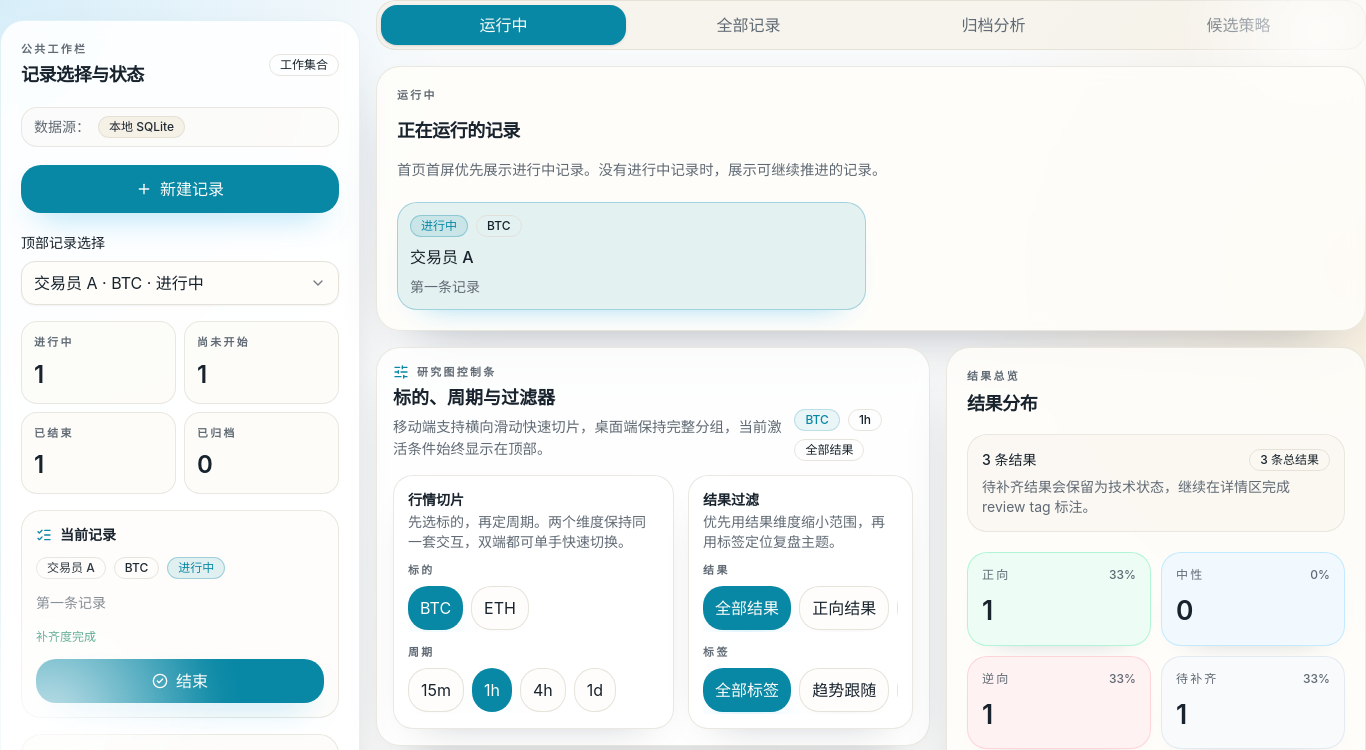
Test: archives a record and removes it from the visible list
Click the tab "全部记录".
click(748, 25)  # box x1=626 y1=5 x2=871 y2=45
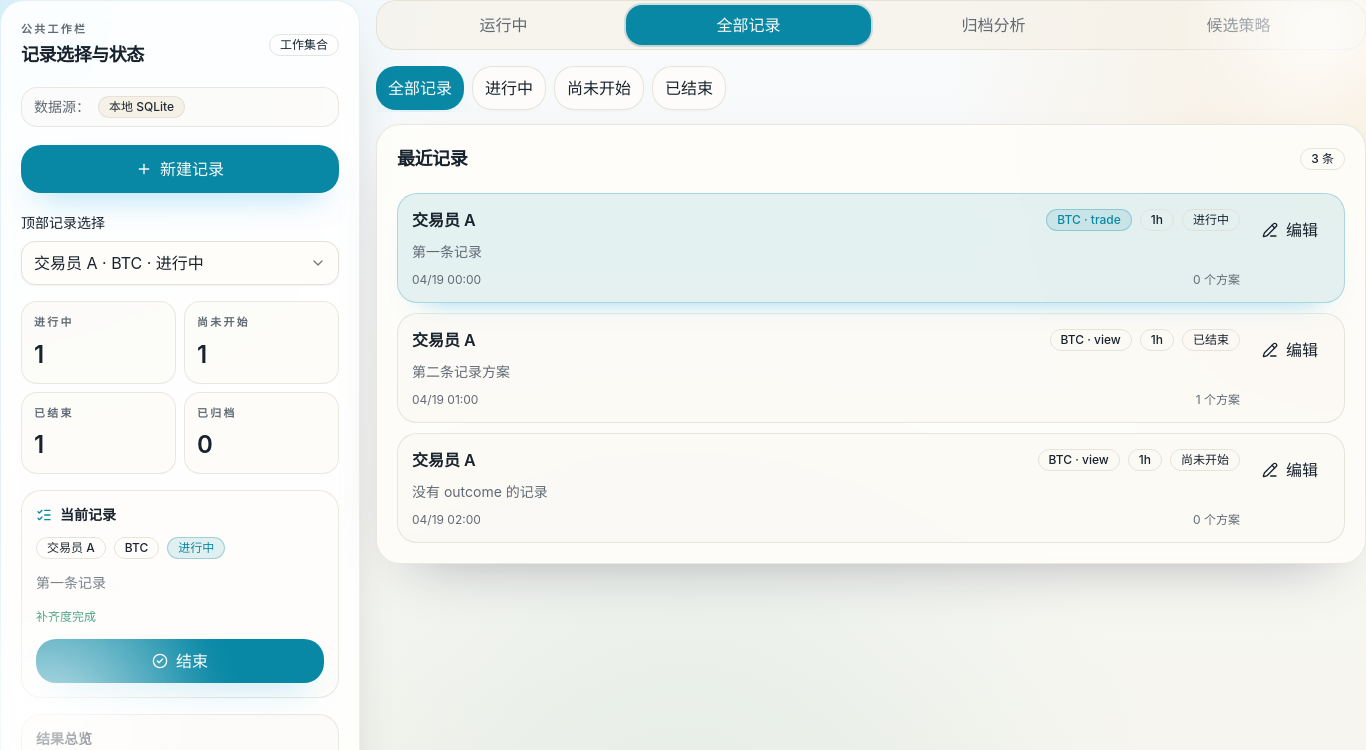
Click the button "交易员 A BTC · view 1h 已结束 第二条记录方案 04/19 01:00 1 个方案".
click(444, 340)  # box x1=412 y1=328 x2=1240 y2=408
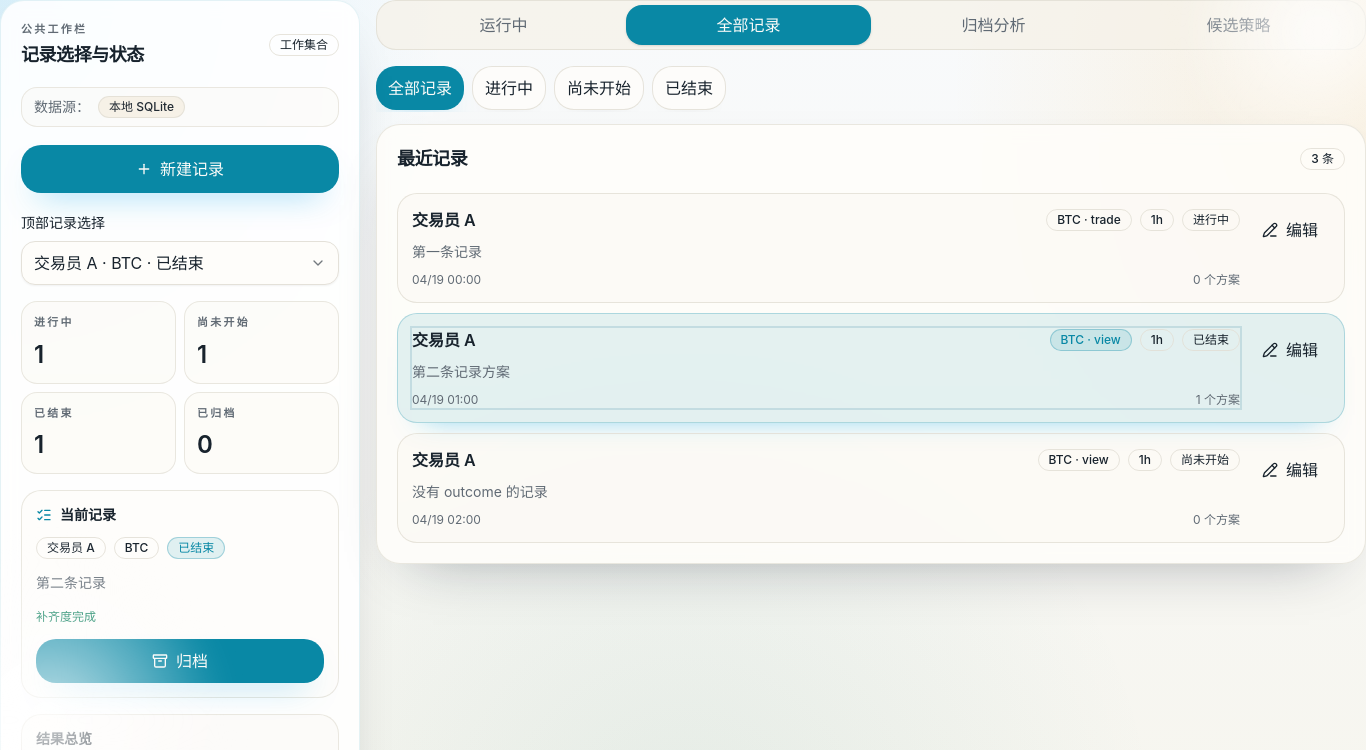
Click the button "归档".
click(180, 661)  # box x1=36 y1=639 x2=324 y2=683
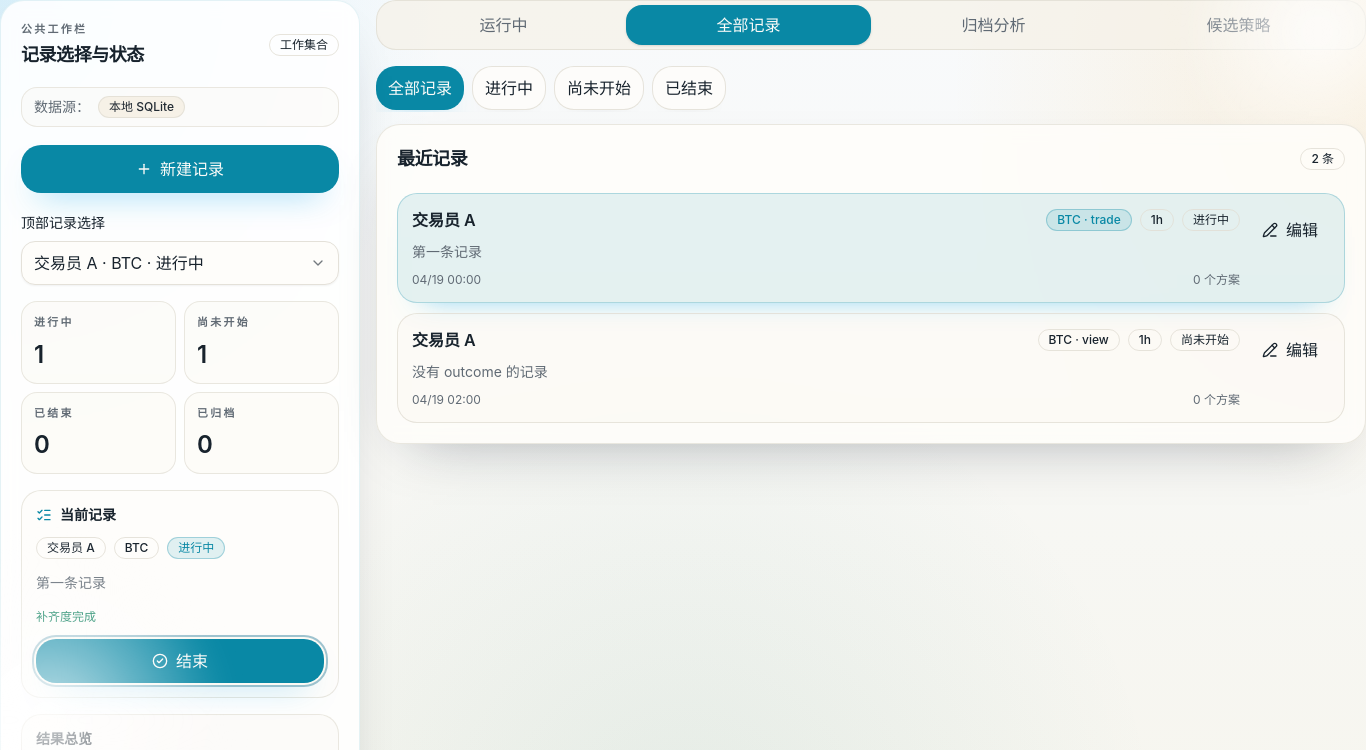
Expected: the text "第二条记录" is gone
